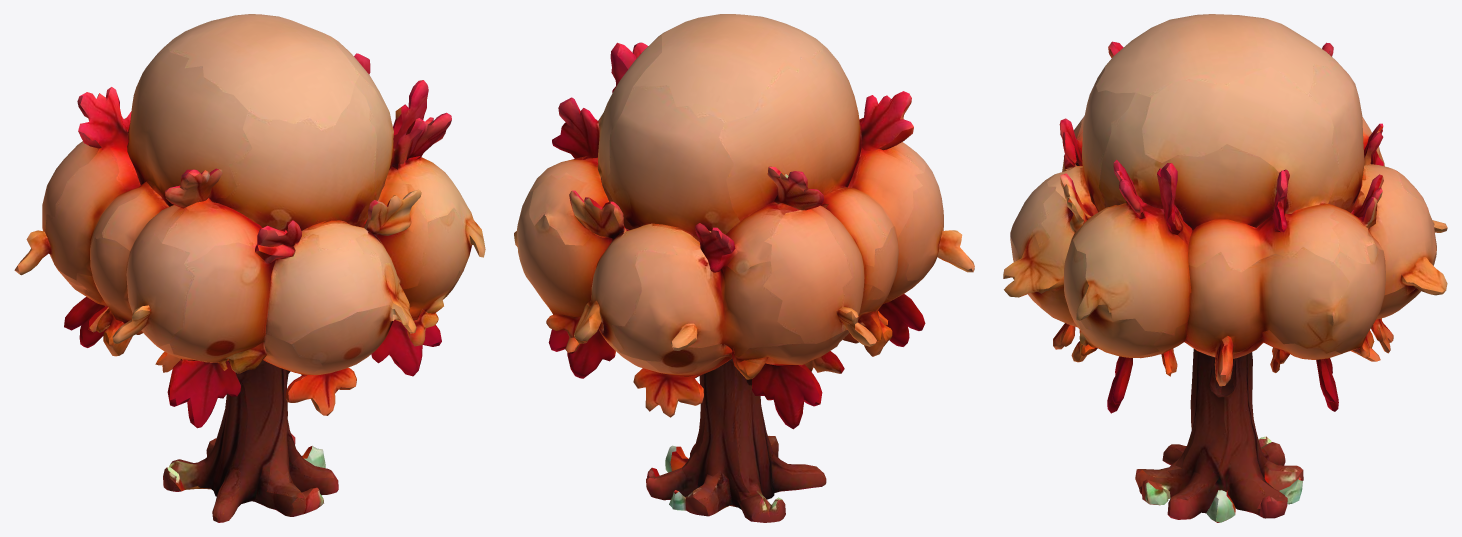
The model's file is tree_autumn.glb.
3 renders of one model, left to right at view 1: azimuth 30°, elevation 25°; view 2: azimuth 150°, elevation 25°; view 3: azimuth 270°, elevation 25°, orthographic.
Visible parts, largest first — view 1: tree_autumn_s15; view 2: tree_autumn_s15; view 3: tree_autumn_s15.
Boxes of the visible parts, x1,y1,x2,y2 form: tree_autumn_s15: (14, 14, 485, 522); tree_autumn_s15: (514, 14, 974, 522); tree_autumn_s15: (1003, 14, 1447, 522).
Bounding box in the file's own units: 0.8714 × 1 × 0.8701.
1 material, 1 textured.
